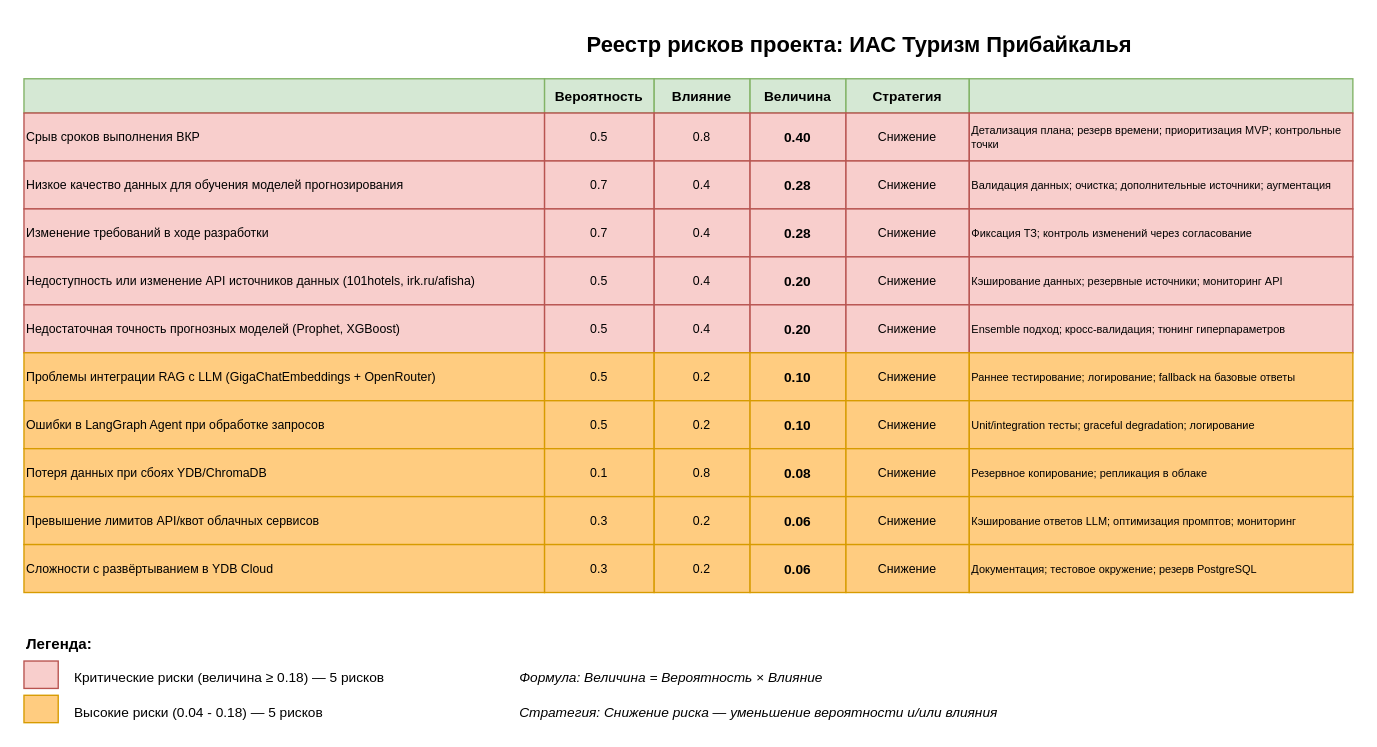
This 1377x747 diagram has some shape labels left out. Each missing label, with the centre of its shape:
"Действия" belongs at (x=1160, y=95).
"Риск" belongs at (x=284, y=95).
